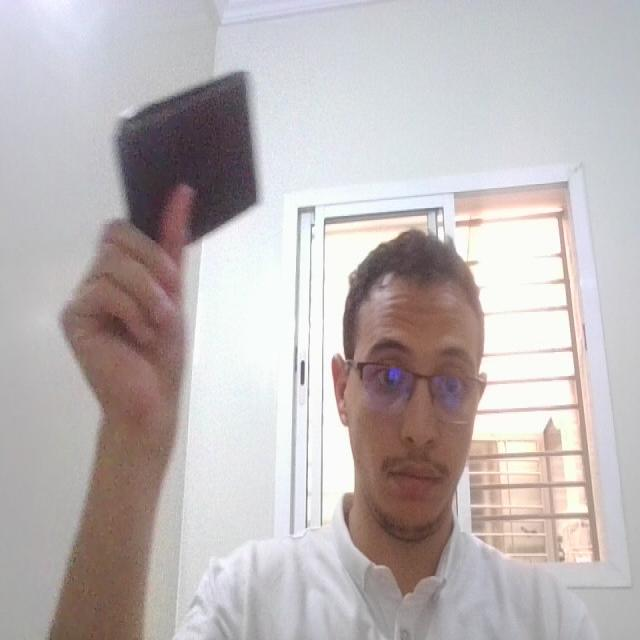wallet: (110, 65, 277, 258)
